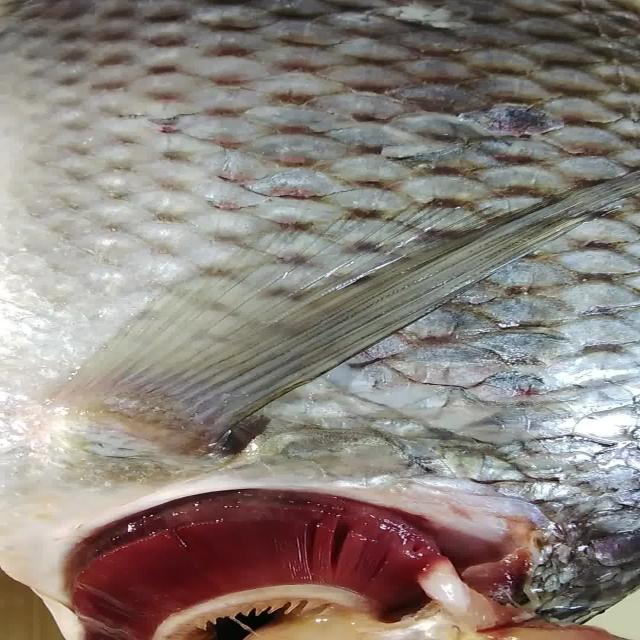Fresh: (45, 1, 640, 480), (65, 480, 464, 640)
